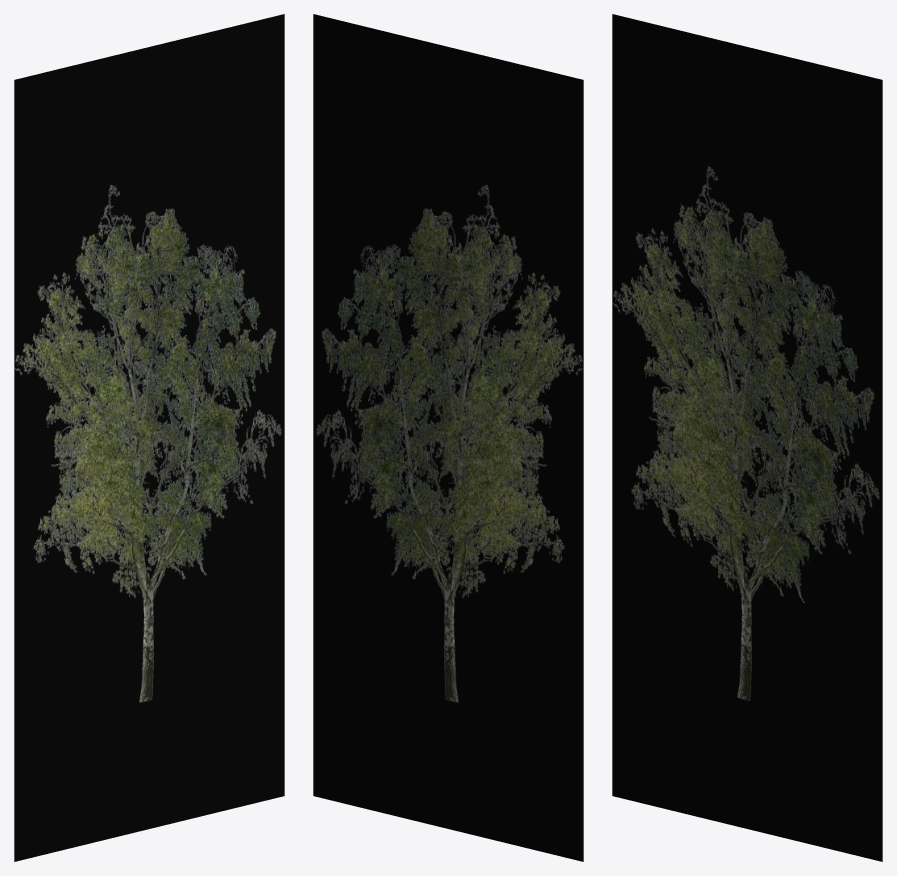
File: 白桦树2平面.gltf
The picture shows the model from 3 angles, left to right: view 1: azimuth 30°, elevation 25°; view 2: azimuth 150°, elevation 25°; view 3: azimuth 330°, elevation 25°; orthographic projection.
Parts seen in each view (by area): view 1: 平面; view 2: 平面; view 3: 平面.
Boxes of the visible parts, <box> form: 平面: <box>14,14,284,861</box>; 平面: <box>313,14,583,861</box>; 平面: <box>612,14,882,861</box>.
Bounding box in the file's own units: 5.37 × 14.87 × 3.88e-08.
1 material, 1 textured.
